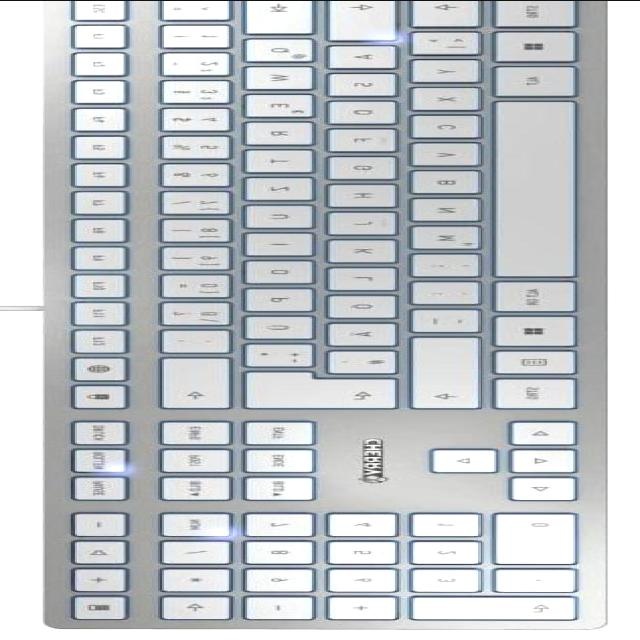0: (152, 272, 225, 297)
1: (152, 22, 227, 47)
2: (154, 50, 227, 75)
3: (152, 77, 227, 102)
4: (152, 106, 225, 130)
5: (152, 133, 227, 157)
6: (152, 161, 227, 185)
7: (152, 189, 225, 213)
8: (152, 216, 227, 241)
9: (152, 243, 227, 269)
a: (318, 43, 393, 67)
accent: (152, 327, 225, 351)
ae: (318, 320, 393, 344)
alt-left: (484, 63, 573, 95)
altgr-right: (484, 279, 573, 311)
b: (399, 168, 476, 193)
c: (399, 112, 476, 137)
caret: (152, 0, 225, 18)
comma: (401, 251, 476, 276)
d: (318, 98, 391, 122)
del: (152, 355, 227, 407)
e: (233, 92, 310, 116)
enter: (231, 367, 393, 407)
f: (316, 126, 391, 150)
g: (318, 153, 391, 178)
h: (316, 181, 393, 206)
hash: (318, 347, 391, 372)
i: (233, 230, 308, 254)
j: (316, 209, 391, 234)
k: (316, 237, 391, 262)
keyboard: (35, 0, 610, 629)
l: (316, 265, 391, 289)
less: (401, 29, 474, 54)
m: (399, 222, 476, 248)
minus: (401, 306, 476, 331)
n: (399, 195, 476, 221)
o: (235, 257, 310, 282)
oe: (318, 293, 393, 317)
p: (235, 286, 310, 310)
plus: (233, 341, 310, 365)
point: (401, 279, 474, 303)
q: (235, 35, 310, 60)
r: (235, 119, 310, 143)
s: (318, 71, 391, 95)
shift-left: (401, 0, 476, 25)
shift-lock: (318, 0, 393, 39)
shift-right: (401, 334, 474, 408)
space: (484, 97, 577, 276)
ss: (152, 299, 225, 323)
strg-left: (484, 0, 573, 26)
strg-right: (486, 374, 573, 408)
t: (233, 147, 310, 171)
tab: (235, 0, 310, 32)
u: (233, 202, 310, 227)
ue: (233, 314, 310, 338)
v: (399, 140, 476, 165)
w: (233, 64, 308, 88)
x: (399, 85, 476, 110)
y: (401, 56, 476, 81)
z: (235, 174, 310, 199)
